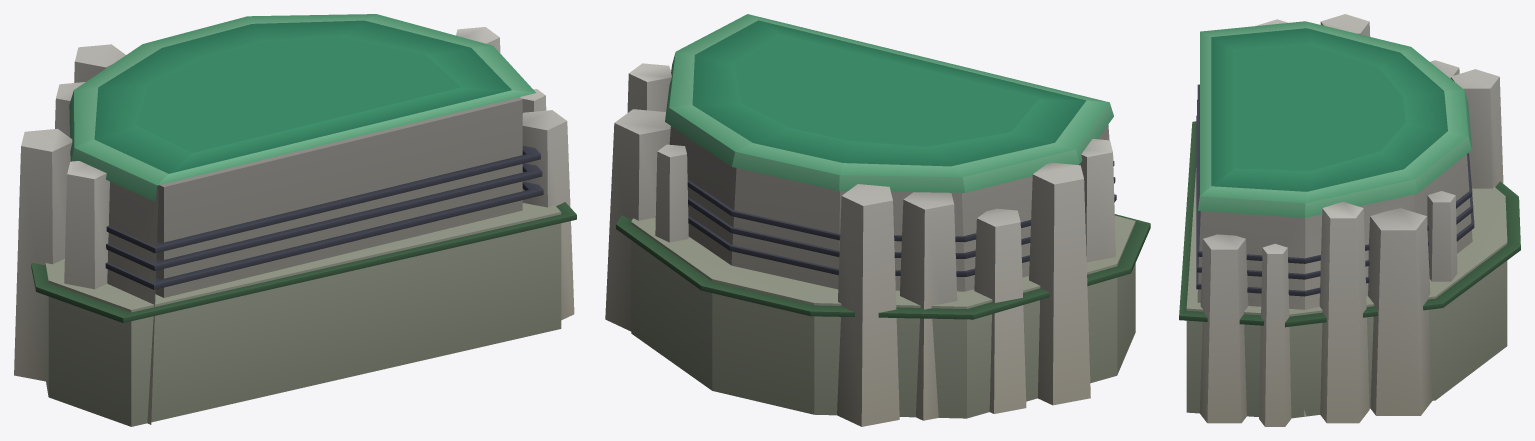
Rendered from lighthouse-headland.glb.
The picture shows the model from 3 angles, left to right: view 1: azimuth 30°, elevation 25°; view 2: azimuth 150°, elevation 25°; view 3: azimuth 270°, elevation 25°; orthographic projection. The views are drawn at different scales.
Parts seen in each view (by area): view 1: headland; view 2: headland; view 3: headland.
Boxes of the visible parts, <box> form: headland: <box>14,14,576,426</box>; headland: <box>605,14,1150,426</box>; headland: <box>1179,14,1520,426</box>.
Size of the model in its own units: 12.83 by 5.85 by 8.51.
